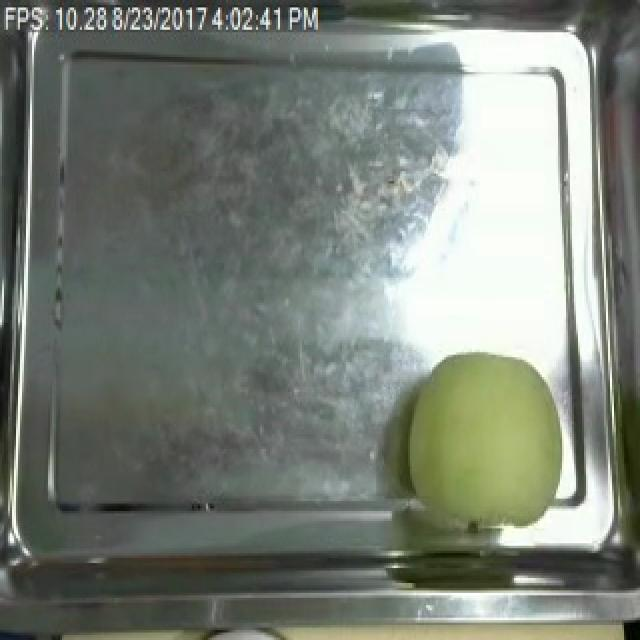50-_ripeness: (401, 347, 574, 566)
